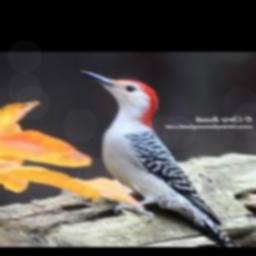Woodpecker: (81, 69, 239, 247)
